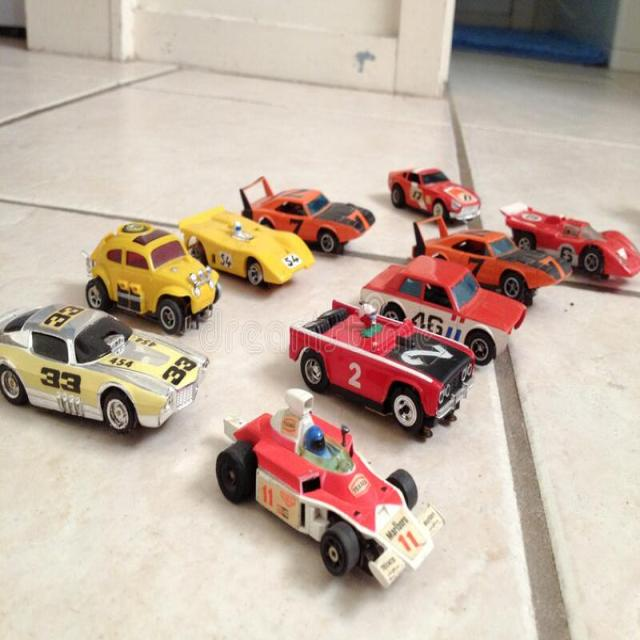Car: (215, 386, 434, 588), (0, 302, 209, 434), (288, 300, 476, 434), (358, 253, 526, 366), (81, 220, 220, 335), (410, 215, 573, 306), (178, 204, 314, 288), (498, 200, 640, 280), (238, 175, 376, 255), (387, 165, 481, 223)
